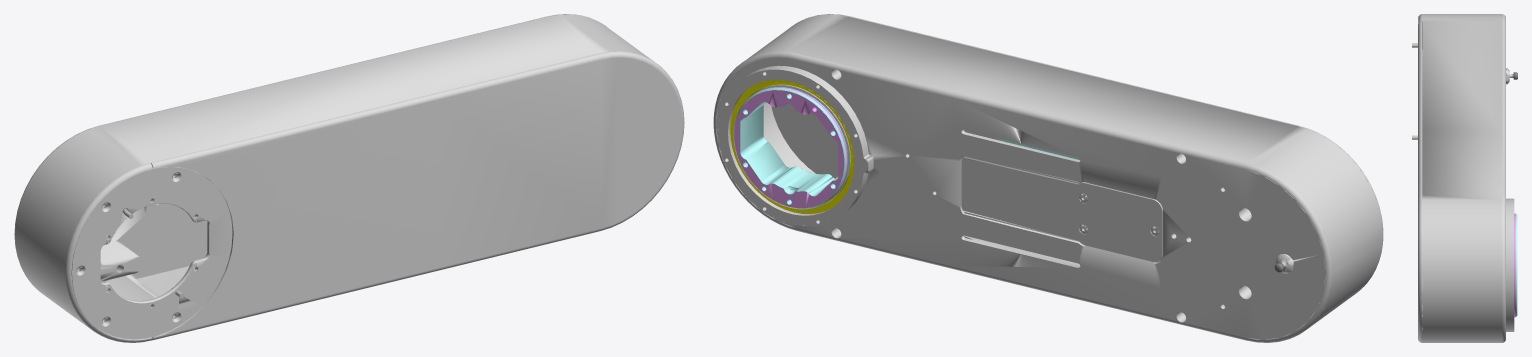
File: brooks_pf400_link_1_body.glb
The picture shows the model from 3 angles, left to right: view 1: azimuth 30°, elevation 25°; view 2: azimuth 150°, elevation 25°; view 3: azimuth 270°, elevation 25°; orthographic projection. The views are drawn at different scales.
Visible parts, largest first — view 1: brooks_pf400_link_1_body; view 2: brooks_pf400_link_1_body; view 3: brooks_pf400_link_1_body.
Boxes of the visible parts, bbox=[...] form: brooks_pf400_link_1_body: bbox=[14, 14, 684, 342]; brooks_pf400_link_1_body: bbox=[713, 14, 1383, 342]; brooks_pf400_link_1_body: bbox=[1412, 14, 1517, 342].
Size of the model in its own units: 0.416 by 0.114 by 0.0777.
